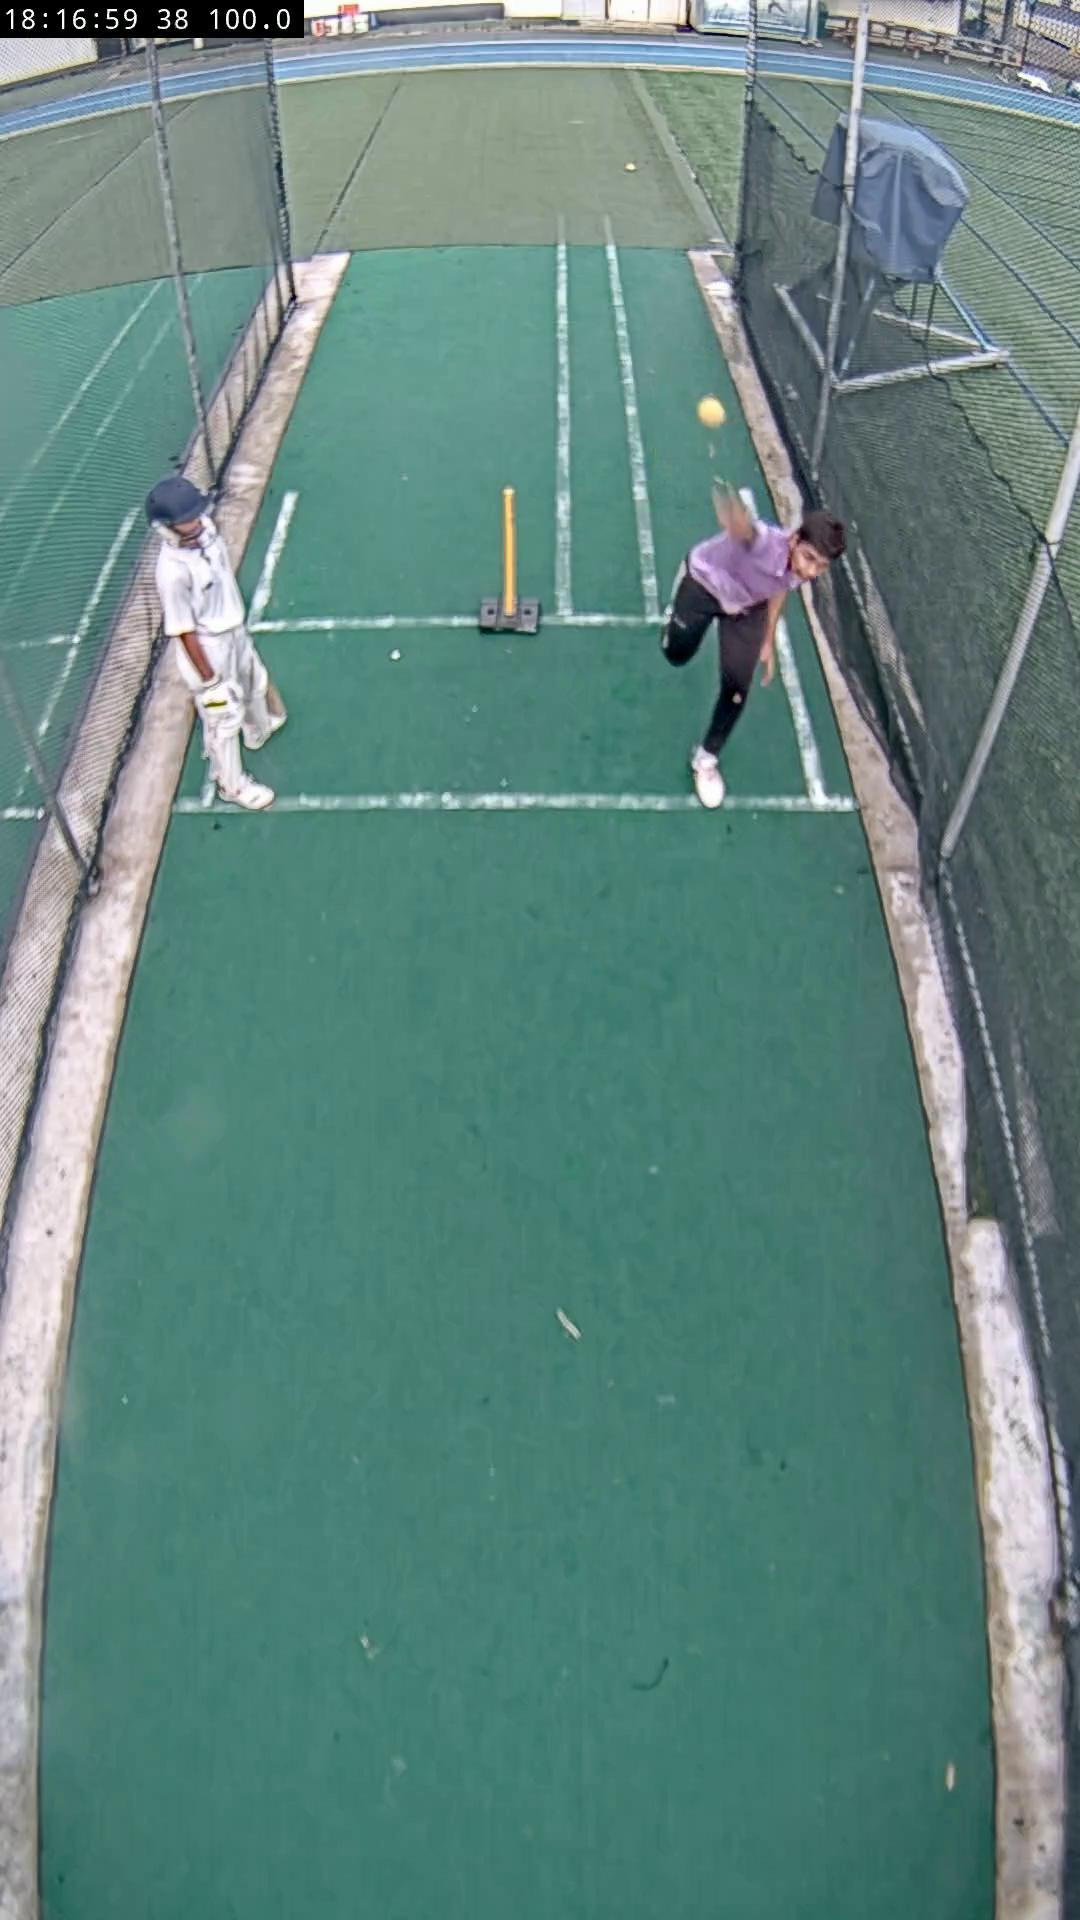ball: (698, 394, 728, 427)
stumps: (476, 488, 541, 634)
